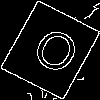O: (25, 25, 83, 84)
